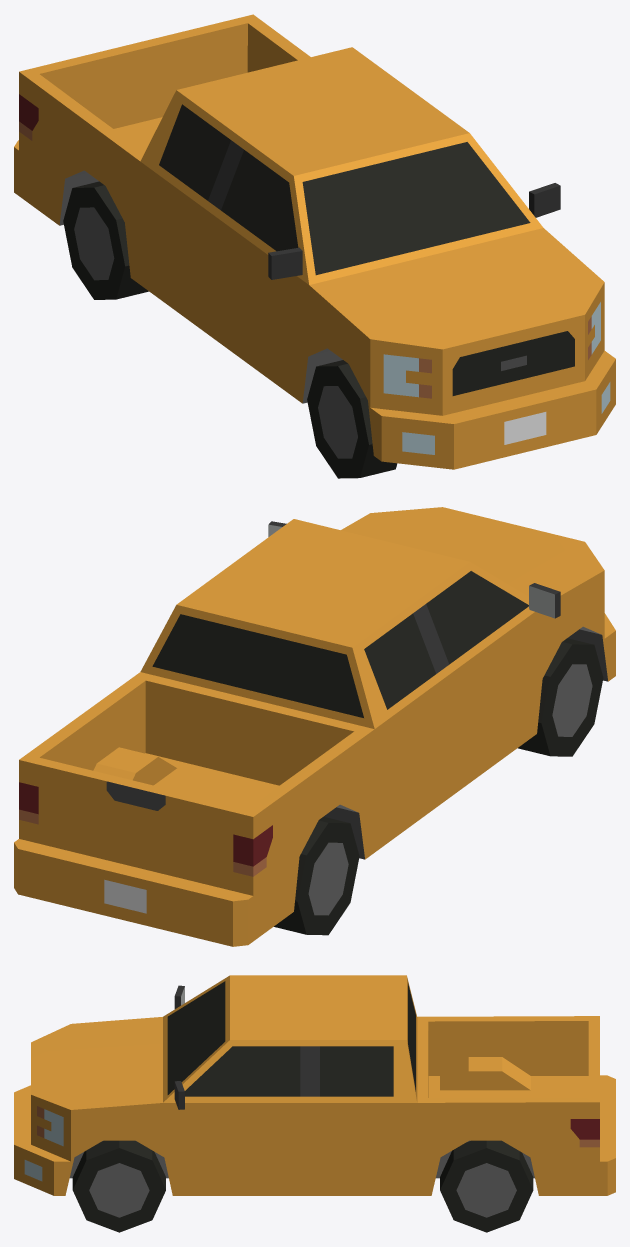
The model's file is Veh_Pickup_03_Yellow.glb.
3 views of the same model, one above another, from view 1: azimuth 30°, elevation 25°; view 2: azimuth 150°, elevation 25°; view 3: azimuth 270°, elevation 25° (orthographic). The views are drawn at different scales.
Visible parts, largest first — view 1: Pickup_03_Yellow, Wheel_FR, Wheel_RR; view 2: Pickup_03_Yellow, Wheel_FR, Wheel_RR; view 3: Pickup_03_Yellow, Wheel_FL, Wheel_RL.
Boxes of the visible parts, x1,y1,x2,y2 form: Pickup_03_Yellow: (14, 14, 615, 469); Wheel_FR: (307, 360, 397, 478); Wheel_RR: (63, 181, 148, 299); Pickup_03_Yellow: (14, 507, 615, 946); Wheel_FR: (518, 638, 603, 756); Wheel_RR: (274, 816, 359, 935); Pickup_03_Yellow: (14, 975, 615, 1195); Wheel_FL: (72, 1140, 165, 1232); Wheel_RL: (440, 1140, 533, 1232).
Bounding box in the file's own units: 1.37 × 1.1 × 3.29.
1 material, 1 textured.
